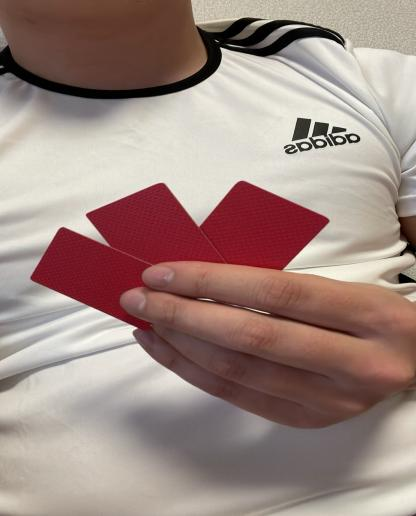ThreeHwatoo: (18, 173, 340, 320)
